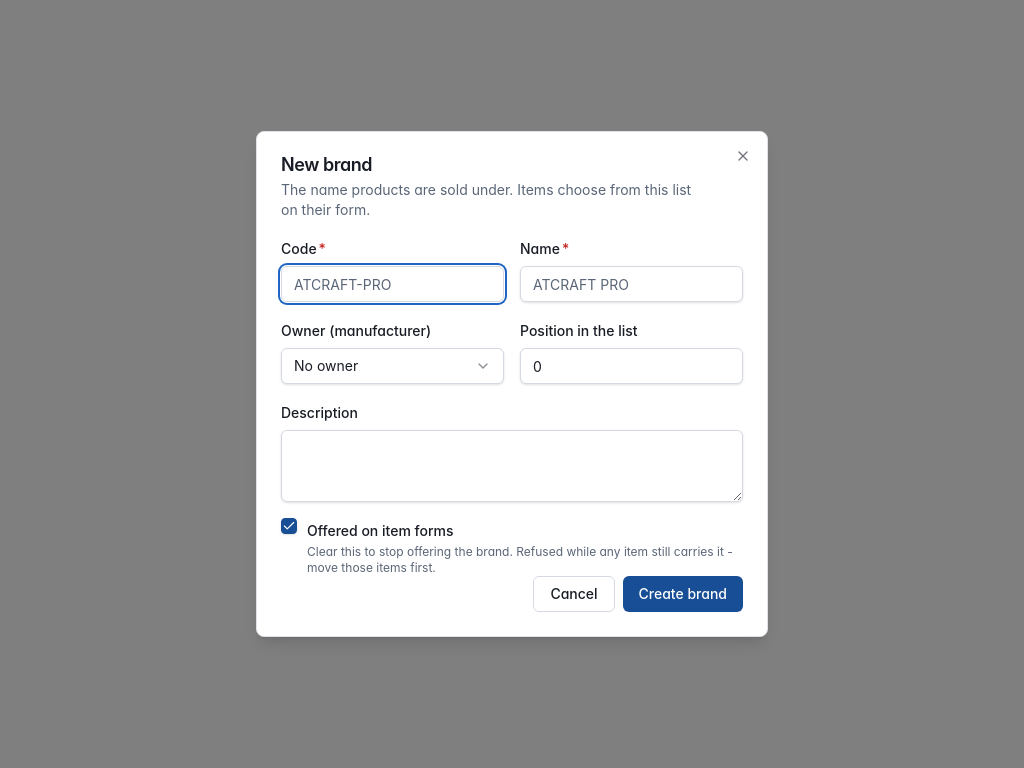
Test case: creating a brand › refuses a position outside 0 to 9999 before anything reaches the network
The width and height of the screenshot is (1024, 768).
Type "B" into the field labelled "Code".
click(392, 284); type("B")  # box top-left (281, 266), bottom-right (504, 302)
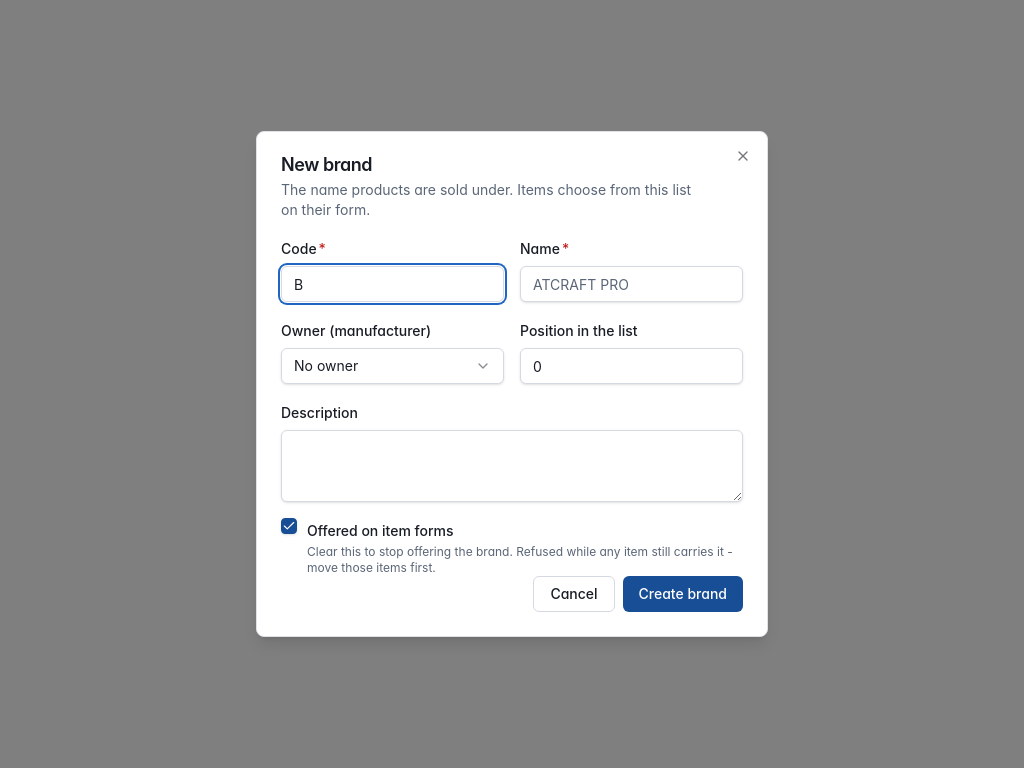
Type "Brand" into the field labelled "Name".
click(632, 284); type("Brand")  # box top-left (520, 266), bottom-right (743, 302)
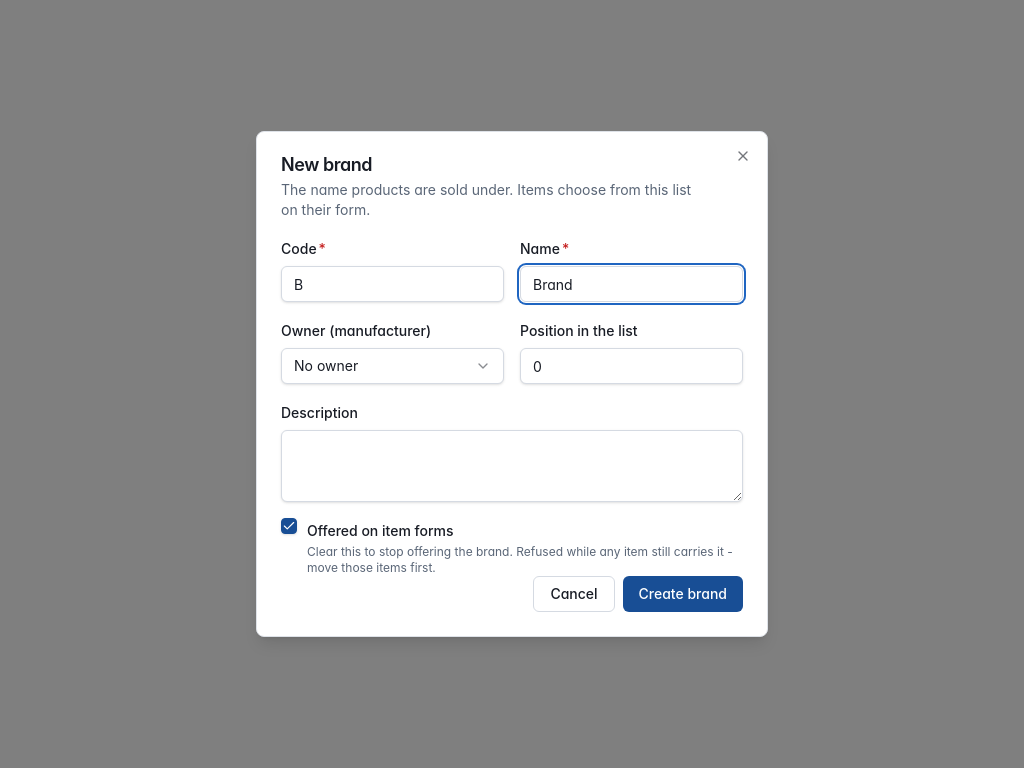
Replace the text in the field labelled "Position in the list" with "10000" at (632,366), box top-left (520, 348), bottom-right (743, 384)
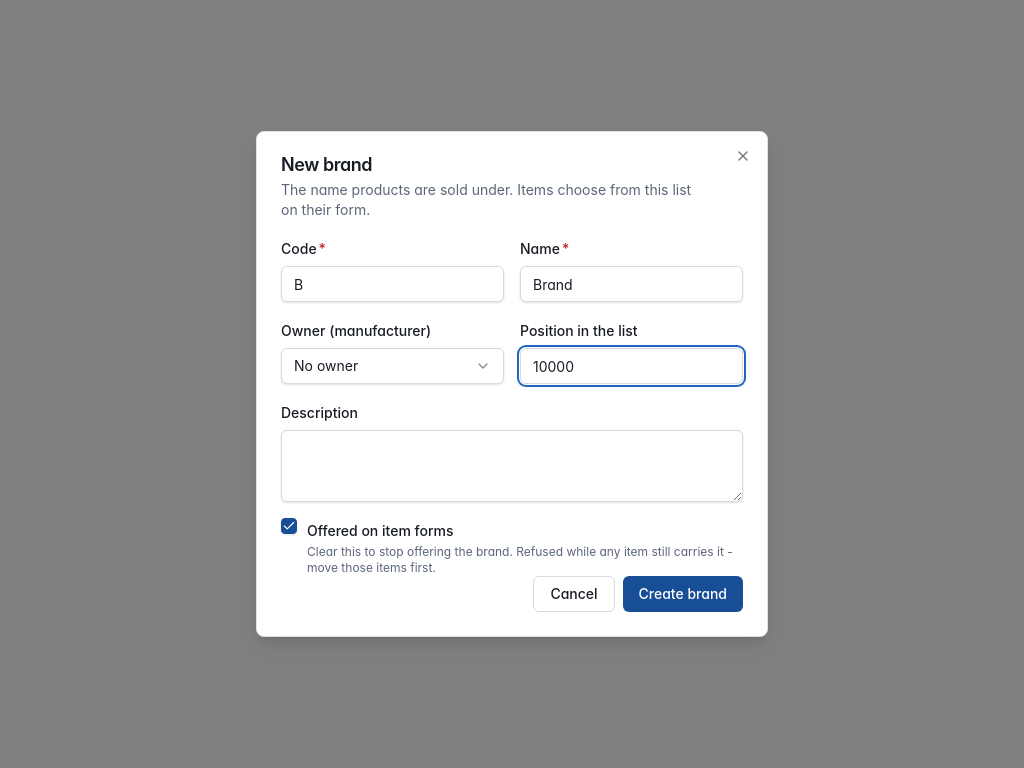
Click the button "Create brand".
click(683, 594)  # box top-left (623, 576), bottom-right (743, 612)
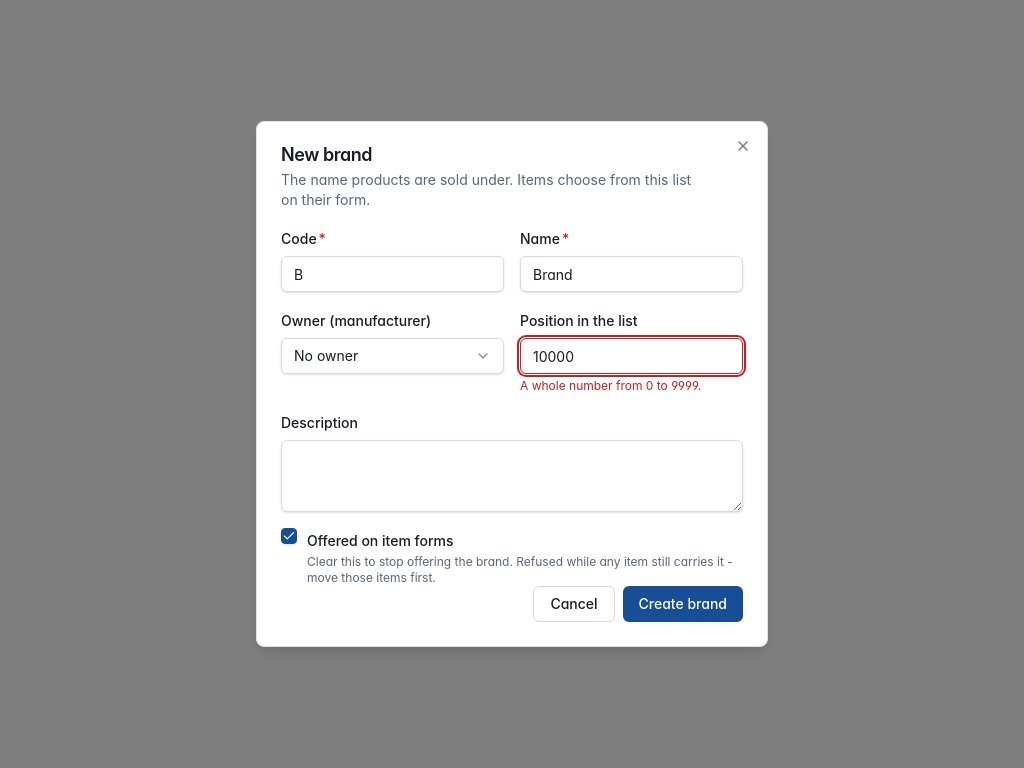
Now the text "A whole number from 0 to 9999." is shown, box top-left (520, 378), bottom-right (701, 393)
